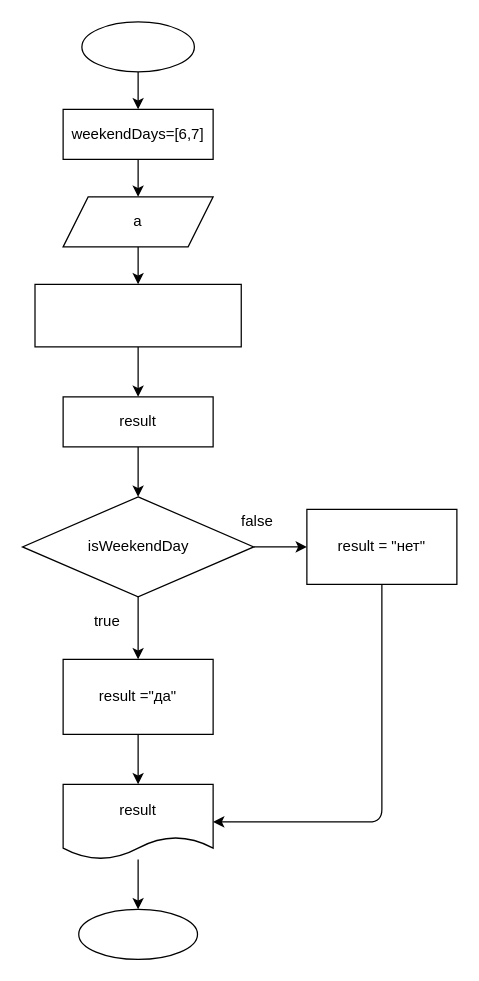
Some shapes in this 479 by 981 pixel diagram are drawn without their labels. The centre of each missing label's shape, as x and y in pixels:
"bool isWeekendDay = weekendDays.Contains(a)" belongs at [137,315].
"end" belongs at [138,933].
"start" belongs at [137,46].
